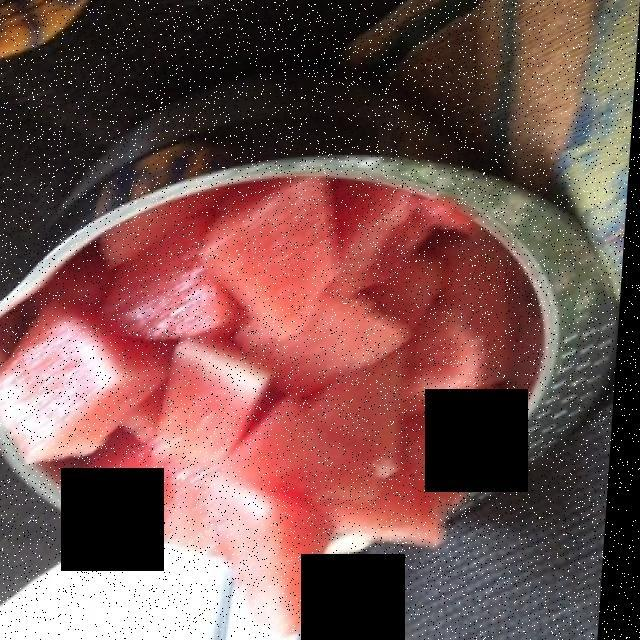watermelon: (4, 182, 543, 620)
